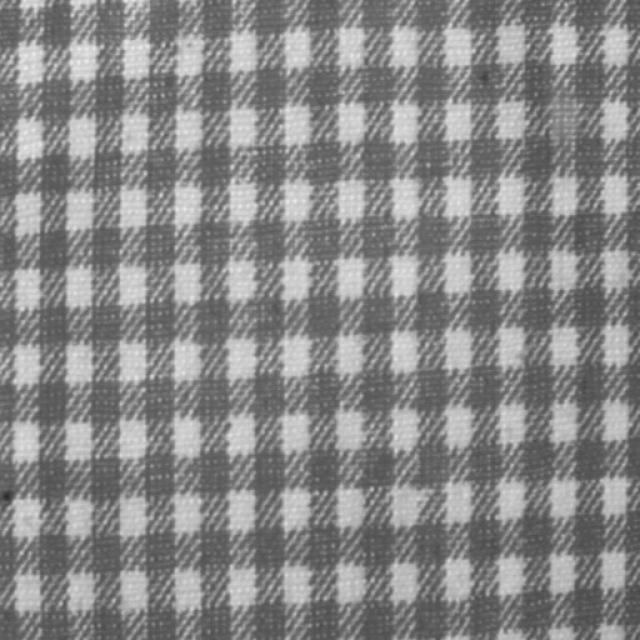Stain-Defect: (550, 91, 580, 142)
